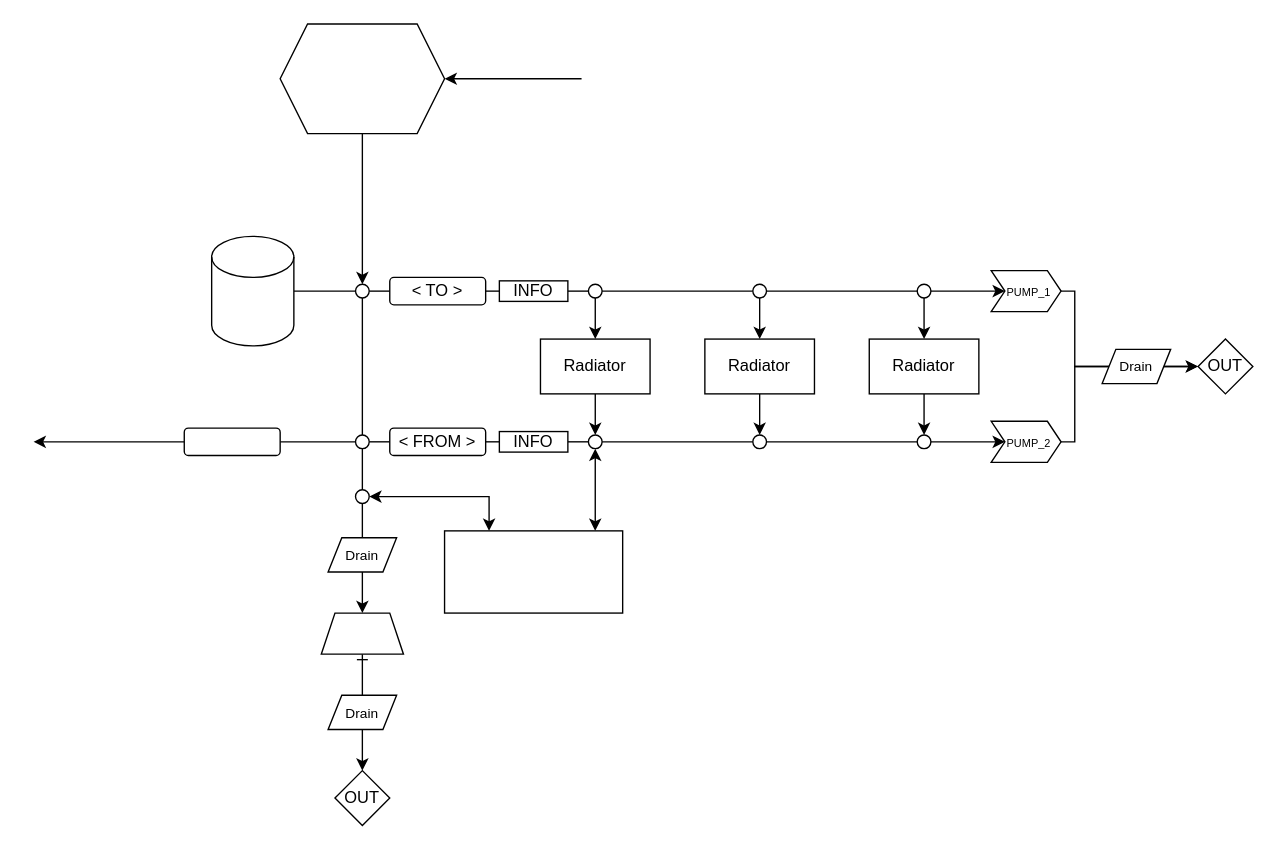
The diagram is 1277 pixels wide and 849 high, and some of its shapes have lost their labels. The shapes that lost their labels are listed below. From the top down, each one's box as (x1, y1, x2, y2) in pixels, then its label:
(279, 23, 445, 134): Furnace
(210, 235, 294, 346): Tank
(183, 427, 280, 456): < FILTER >
(443, 530, 623, 613): Heat Exchanger
(320, 612, 403, 654): Regulator <= 15k
